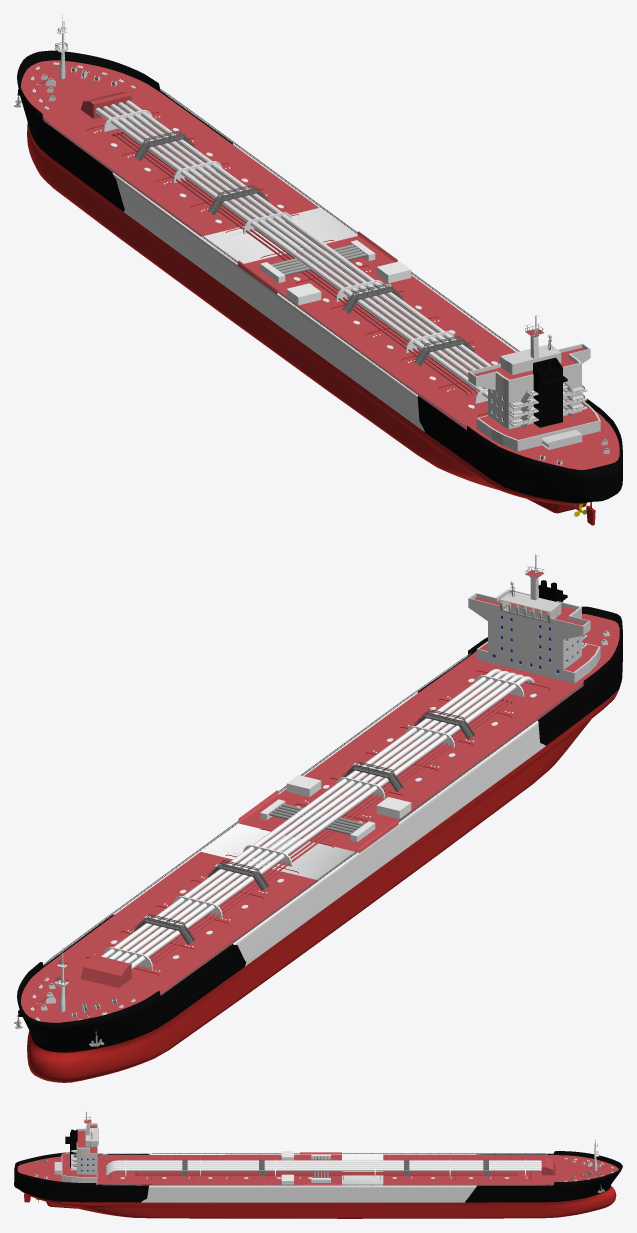
File: tanker-ship.desktop.glb
3 renders of one model, top to bottom at view 1: azimuth 30°, elevation 25°; view 2: azimuth 150°, elevation 25°; view 3: azimuth 270°, elevation 25°, orthographic. The views are drawn at different scales.
Parts seen in each view (by area): view 1: Object_4, Object_18, Object_7, Object_5, Object_6, Object_12, Object_32, Object_8, Object_34, Object_24; view 2: Object_4, Object_7, Object_18, Object_5, Object_6, Object_12, Object_32, Object_8, Object_34, Object_24; view 3: Object_4, Object_7, Object_6, Object_5, Object_18, Object_32, Object_12, Object_8, Object_34.
Part boxes in pixels (left/top/right/bottom): Object_4: left=21, top=60, right=619, bottom=469; Object_18: left=95, top=100, right=541, bottom=403; Object_7: left=27, top=112, right=595, bottom=525; Object_5: left=17, top=50, right=622, bottom=503; Object_6: left=112, top=143, right=517, bottom=431; Object_12: left=468, top=315, right=600, bottom=451; Object_32: left=17, top=27, right=608, bottom=463; Object_8: left=201, top=208, right=357, bottom=263; Object_34: left=30, top=14, right=609, bottom=465; Object_24: left=14, top=95, right=366, bottom=275; Object_4: left=21, top=570, right=619, bottom=1022; Object_7: left=27, top=670, right=620, bottom=1082; Object_18: left=101, top=566, right=540, bottom=969; Object_5: left=17, top=580, right=622, bottom=1052; Object_6: left=113, top=692, right=545, bottom=966; Object_12: left=468, top=554, right=600, bottom=683; Object_32: left=17, top=566, right=607, bottom=1035; Object_8: left=201, top=823, right=356, bottom=880; Object_34: left=30, top=630, right=609, bottom=1022; Object_24: left=14, top=803, right=364, bottom=1046; Object_4: left=17, top=1119, right=618, bottom=1185; Object_7: left=24, top=1161, right=616, bottom=1218; Object_6: left=141, top=1154, right=476, bottom=1202; Object_5: left=14, top=1129, right=622, bottom=1202; Object_18: left=88, top=1116, right=541, bottom=1184; Object_32: left=34, top=1117, right=601, bottom=1186; Object_12: left=54, top=1111, right=98, bottom=1183; Object_8: left=342, top=1154, right=383, bottom=1185; Object_34: left=34, top=1139, right=613, bottom=1181.
Size of the model in its own units: 0.1242 by 0.1674 by 1.
